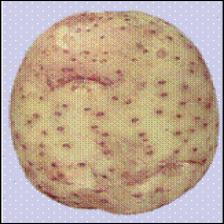Diseased-fungal potato: (12, 15, 219, 216)
